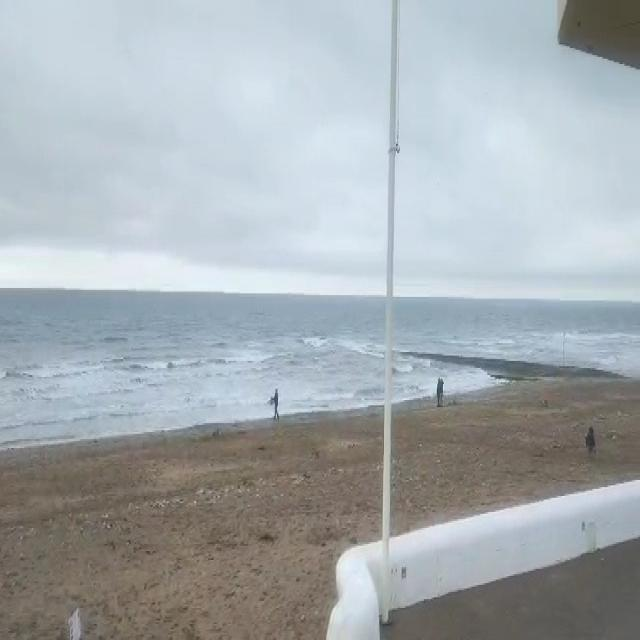person: (584, 424, 599, 462), (269, 383, 281, 421)
